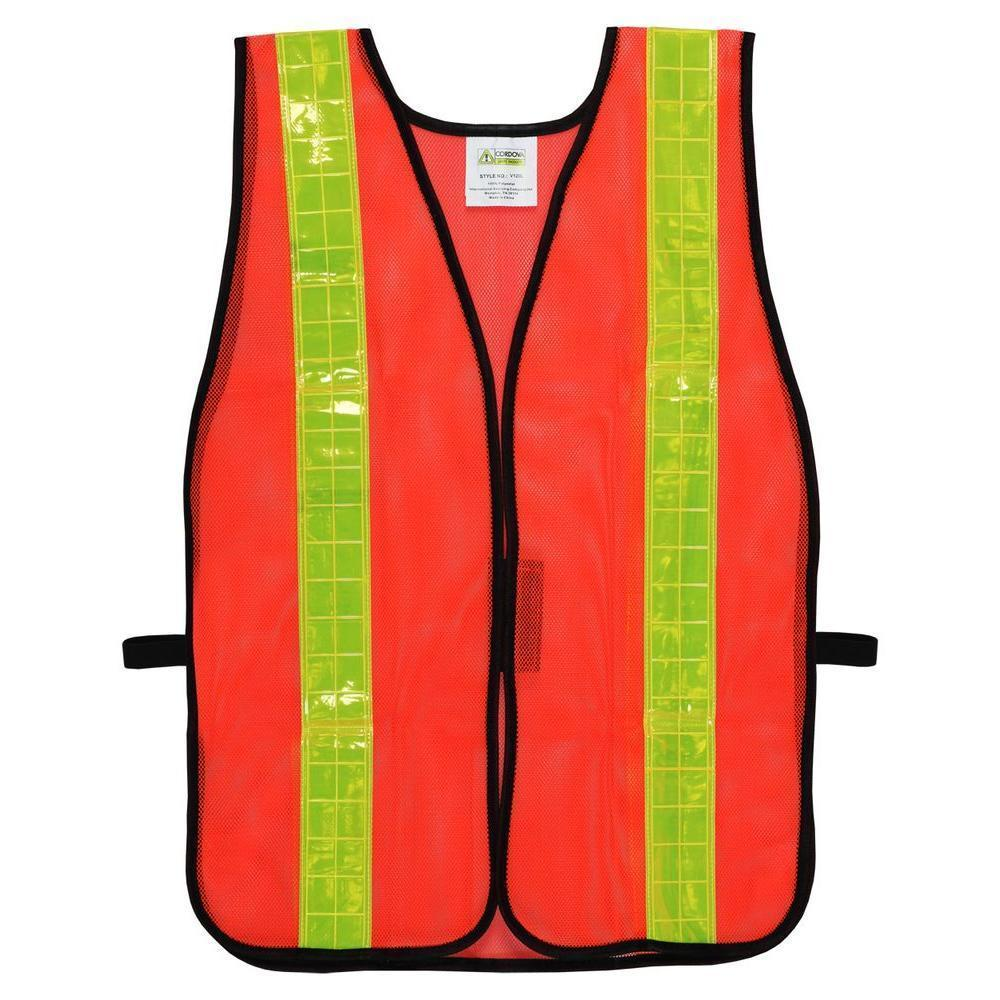vest: (180, 21, 816, 972)
